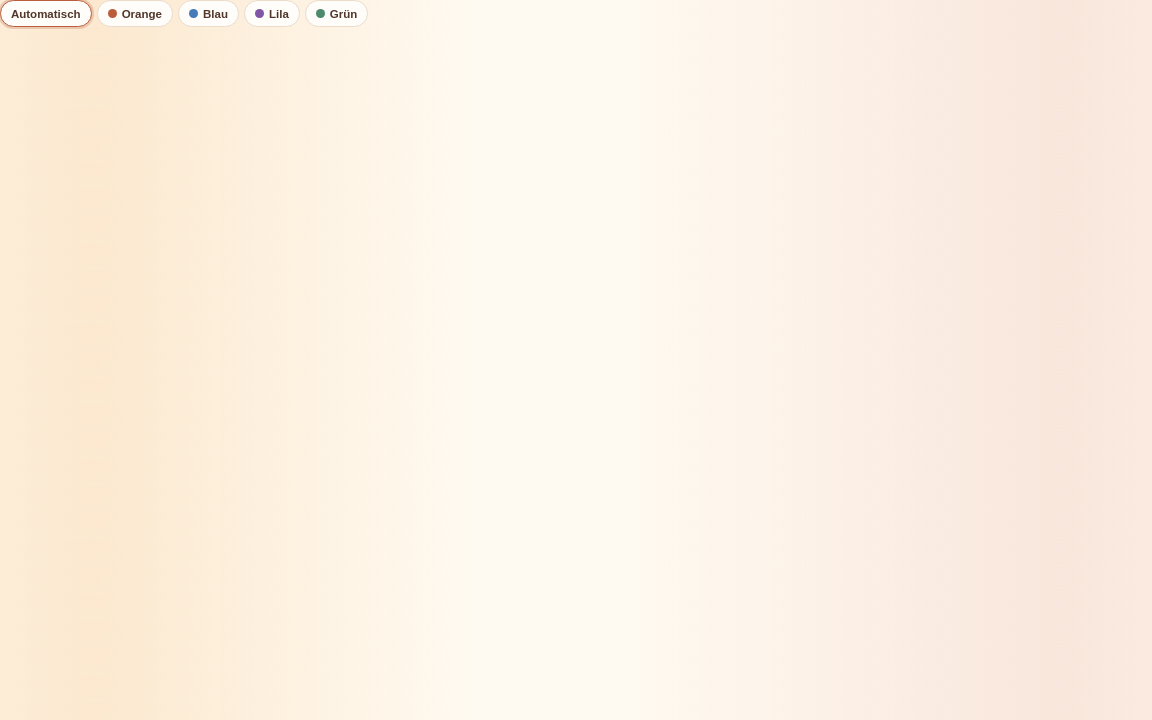
Scenario: theme picker reports browser-storage write failures
Click the button with aria-label "Farbstimmung Blau": (209, 14) [178,0,239,27]
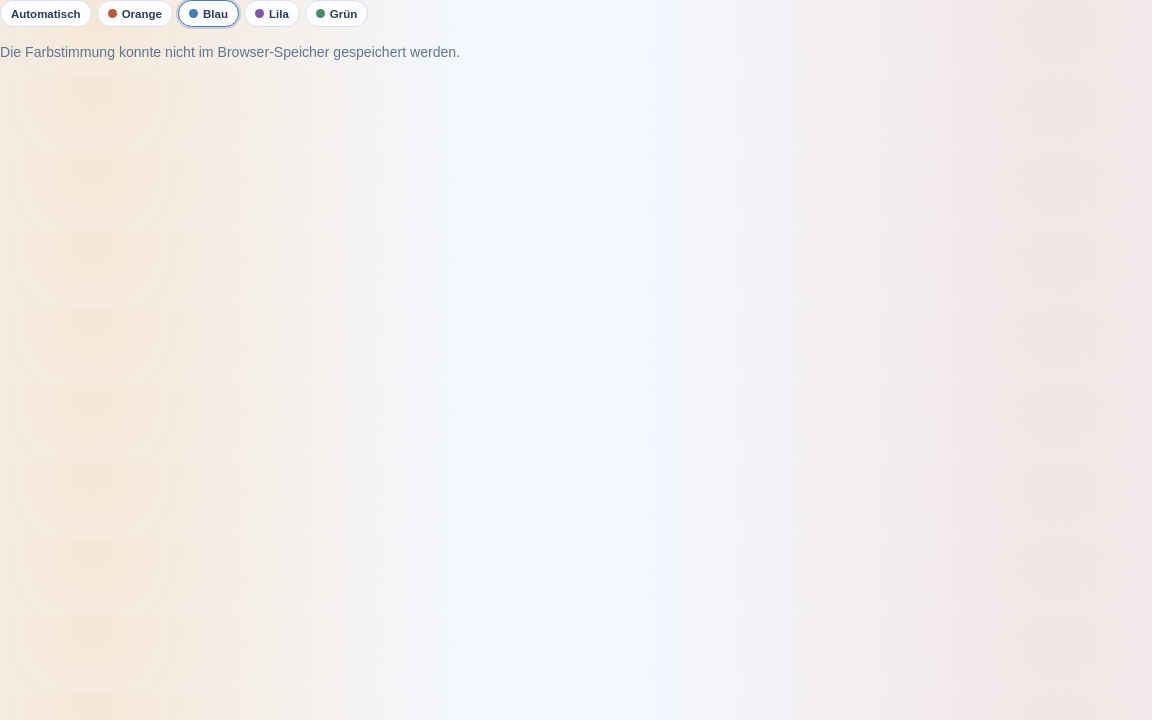
Now the message reads "Die Farbstimmung konnte nicht im Browser-Speicher gespeichert werden.", box [0,44,460,60]
